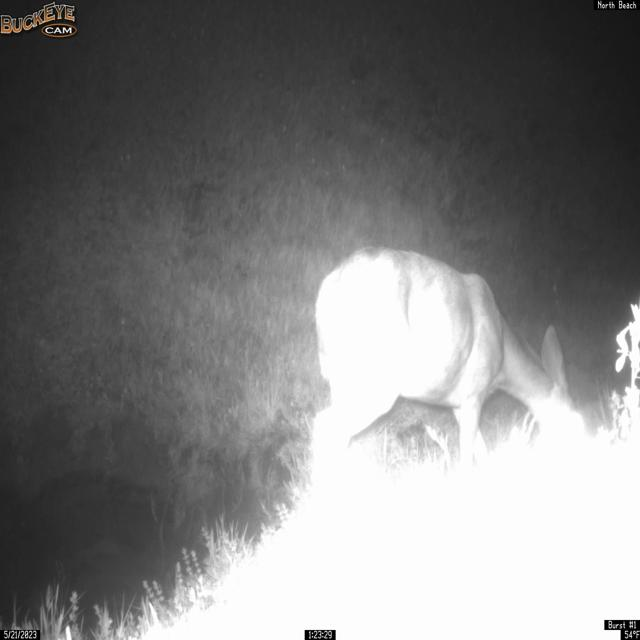deer: (310, 245, 581, 502)
